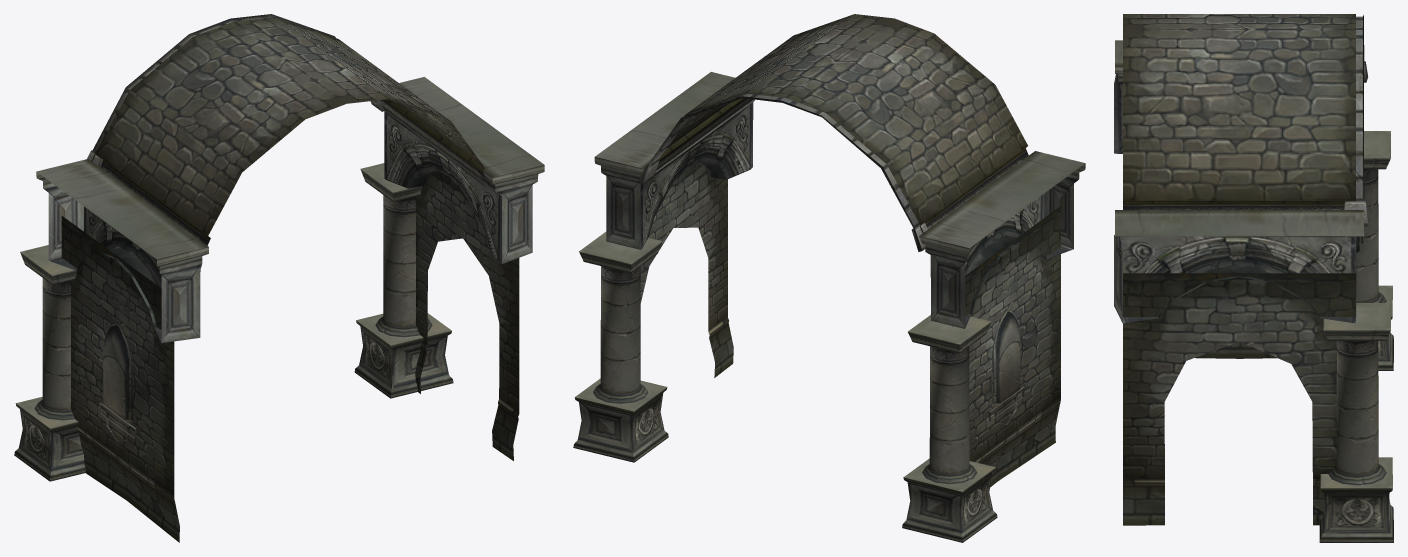
File: DN_1_4_ldao03.FBX
3 views of the same model, side by side, from view 1: azimuth 30°, elevation 25°; view 2: azimuth 150°, elevation 25°; view 3: azimuth 270°, elevation 25° (orthographic). The views are drawn at different scales.
Visible parts, largest first — view 1: DN_1_4_ldao03; view 2: DN_1_4_ldao03; view 3: DN_1_4_ldao03.
Boxes of the visible parts, box(x1,y1,x2,y2) form: DN_1_4_ldao03: box(14, 14, 544, 542); DN_1_4_ldao03: box(573, 14, 1085, 542); DN_1_4_ldao03: box(1114, 14, 1393, 542).
Size of the model in its own units: 938 by 884 by 544.
